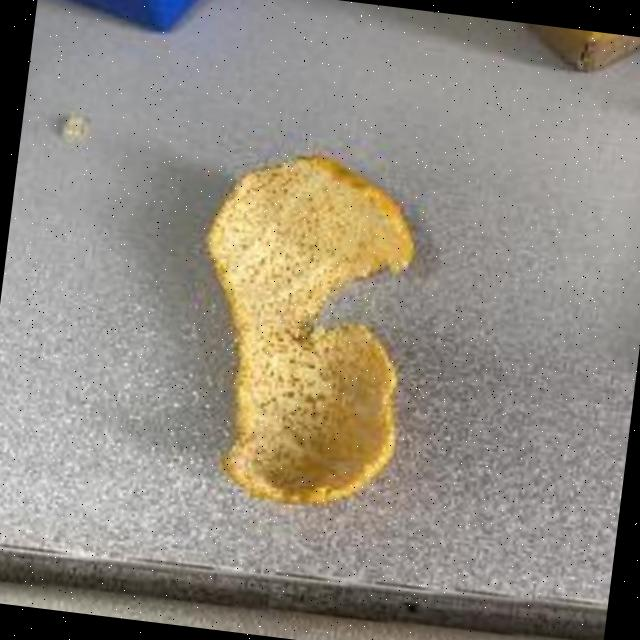orange-peel: (172, 138, 433, 518)
